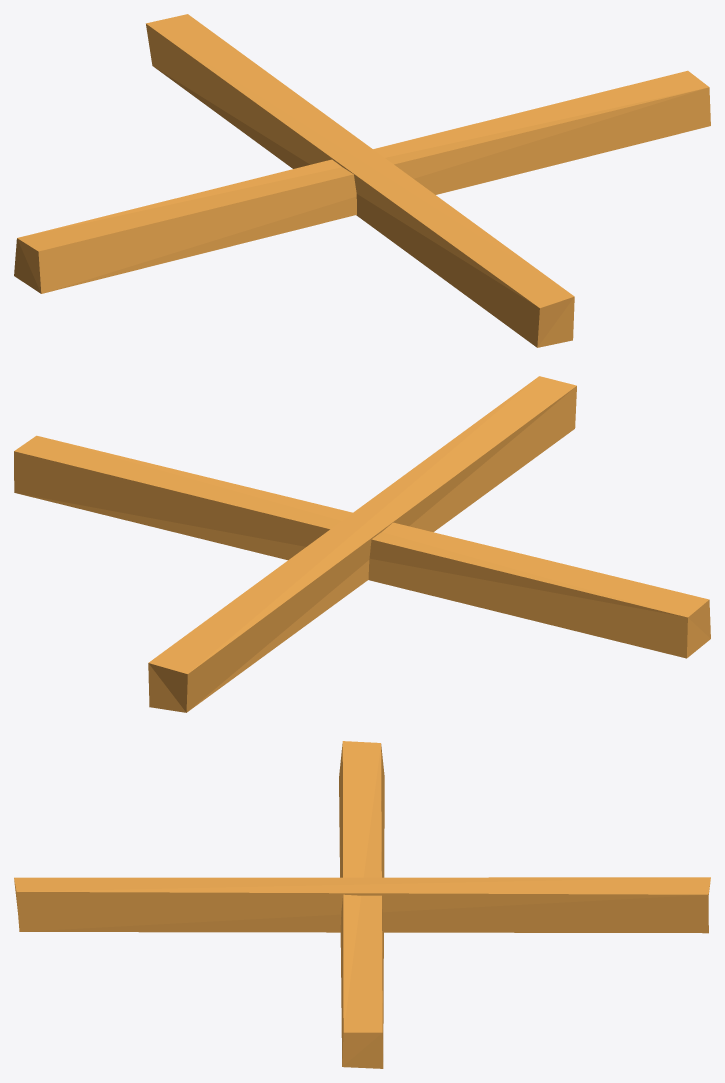
The model's file is anchor_control.fbx.
The picture shows the model from 3 angles, top to bottom: view 1: azimuth 30°, elevation 25°; view 2: azimuth 150°, elevation 25°; view 3: azimuth 270°, elevation 25°; orthographic projection. The views are drawn at different scales.
Parts seen in each view (by area): view 1: anchor_control; view 2: anchor_control; view 3: anchor_control.
Boxes of the visible parts, x1,y1,x2,y2 form: anchor_control: [14, 14, 710, 347]; anchor_control: [14, 376, 710, 712]; anchor_control: [14, 741, 710, 1068].
Size of the model in its own units: 2.21 by 0.1447 by 2.23.
